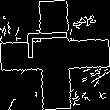L_E: (29, 38, 81, 72)
